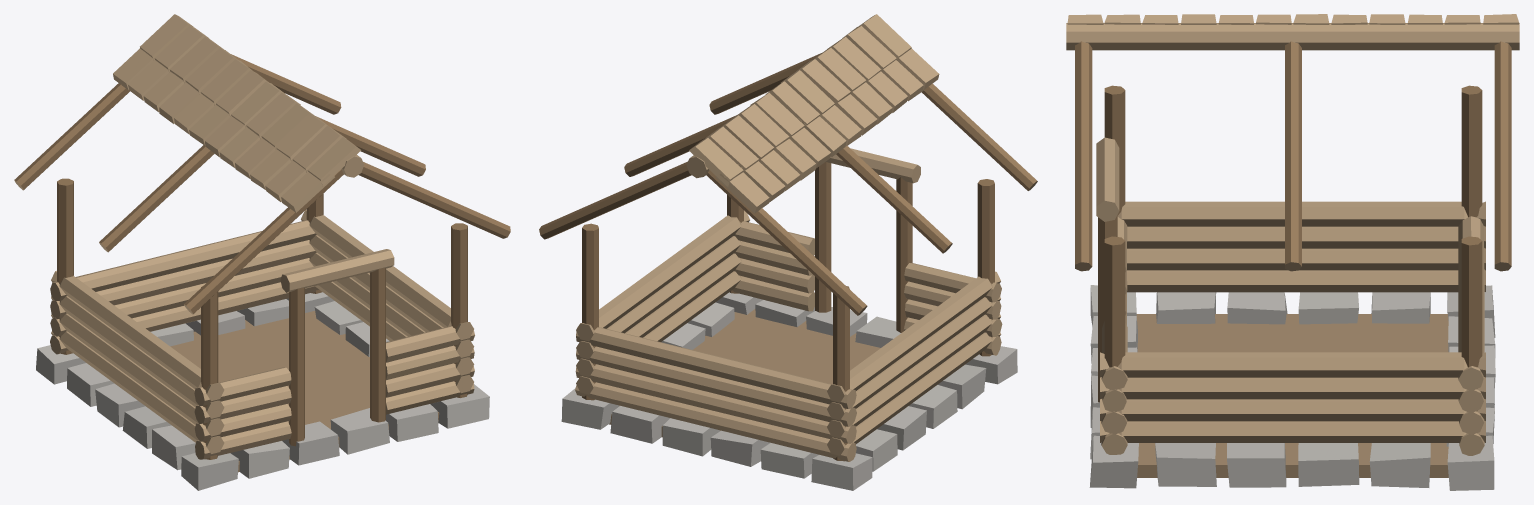
Rendered from building_casting_bench_half.glb.
The picture shows the model from 3 angles, left to right: view 1: azimuth 30°, elevation 25°; view 2: azimuth 150°, elevation 25°; view 3: azimuth 270°, elevation 25°; orthographic projection. The views are drawn at different scales.
Parts seen in each view (by area): view 1: building_casting_bench_half; view 2: building_casting_bench_half; view 3: building_casting_bench_half.
Part boxes in pixels (x1,y1,x2,y2): building_casting_bench_half: [14, 14, 510, 490]; building_casting_bench_half: [539, 14, 1037, 490]; building_casting_bench_half: [1066, 14, 1519, 490].
Bounding box in the file's own units: 3.84 × 3.57 × 3.76.
